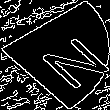N_NW: (10, 22, 100, 88)
